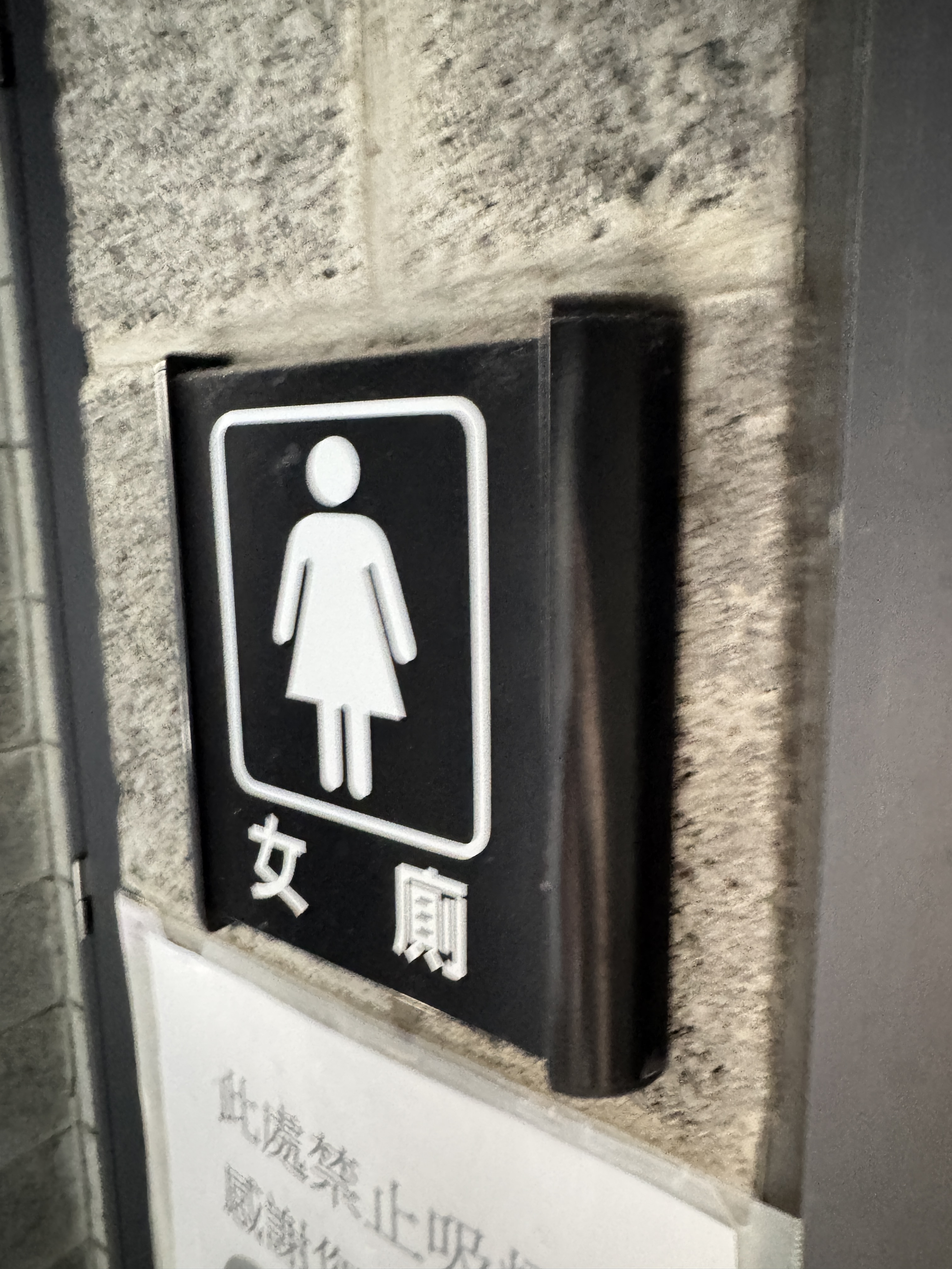toilet_sign: (140, 290, 713, 1103), (146, 302, 700, 1102)
